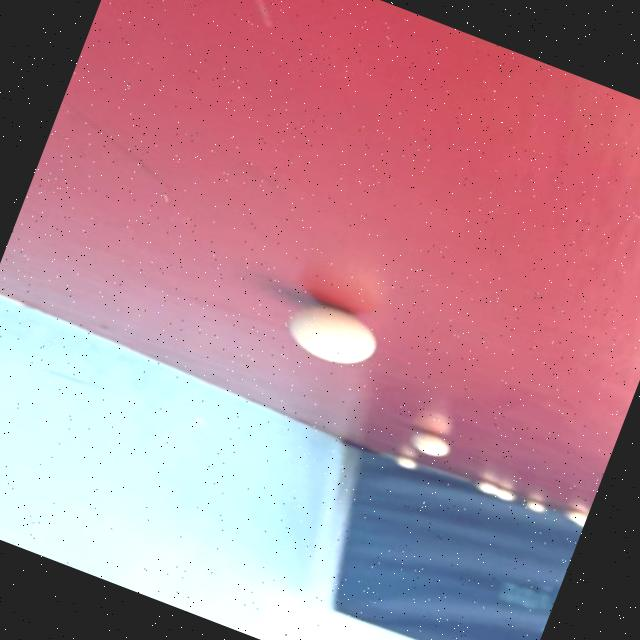ping-pong-ball: (268, 284, 404, 391), (403, 419, 460, 468), (384, 442, 429, 476), (516, 490, 556, 519), (556, 499, 590, 532), (490, 483, 526, 509), (474, 477, 501, 499)
